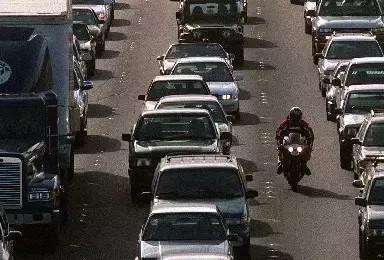MotorCycle: (274, 131, 315, 190)
